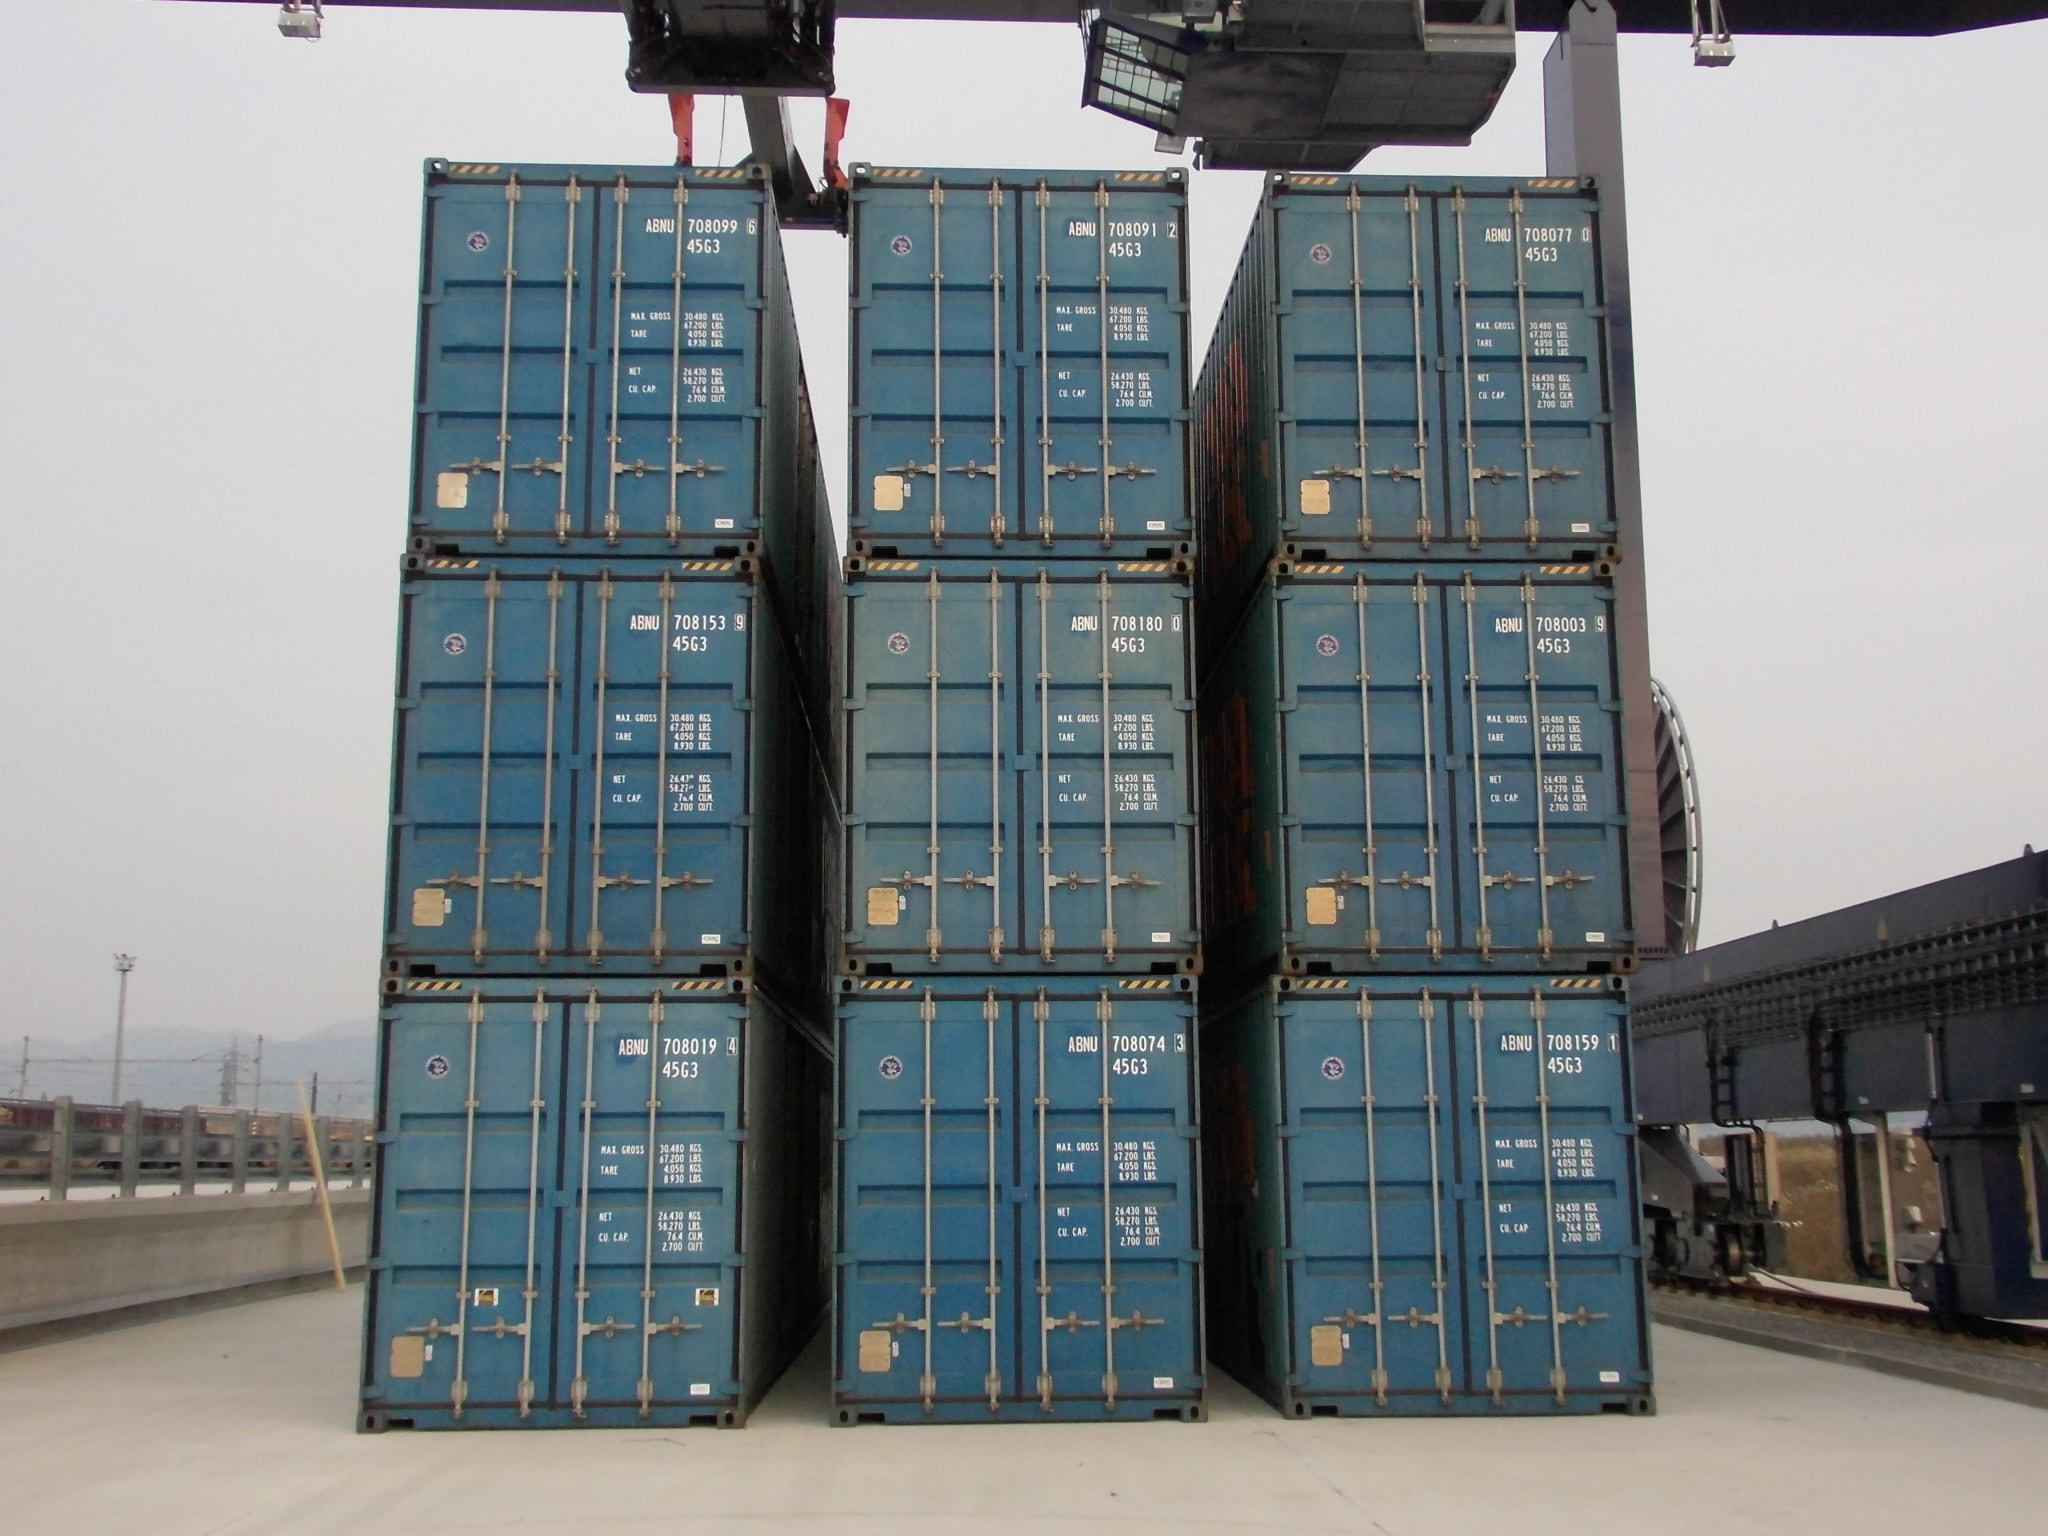container_door: (435, 160, 747, 560), (418, 570, 729, 970), (405, 1000, 716, 1400), (869, 153, 1180, 553), (871, 558, 1182, 958), (864, 991, 1176, 1391), (1288, 177, 1600, 578), (1301, 576, 1613, 976), (1308, 1007, 1619, 1407)
